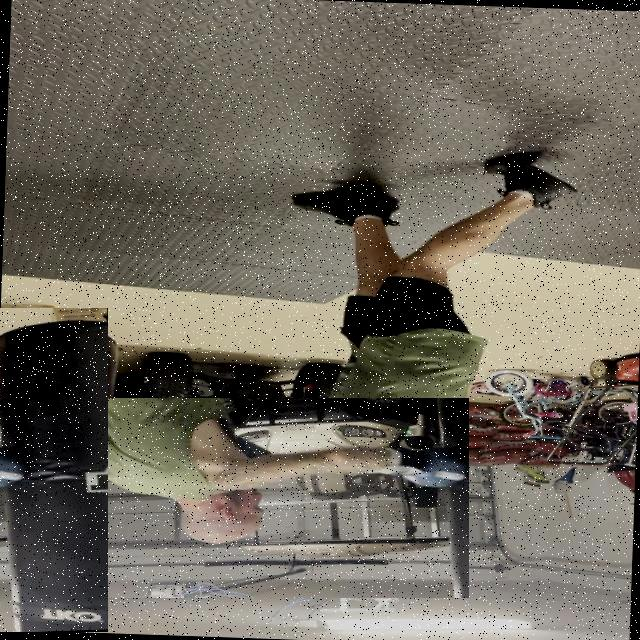punch: (81, 398, 469, 598)
